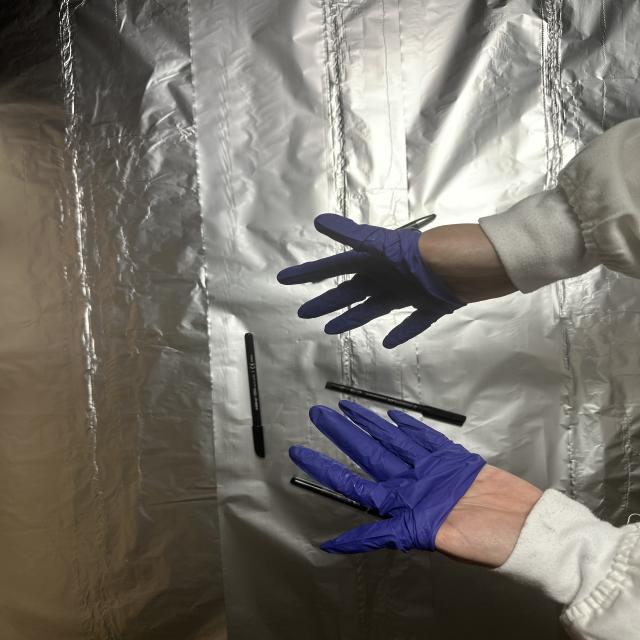glove_partial: (284, 396, 547, 568), (276, 211, 529, 352)
